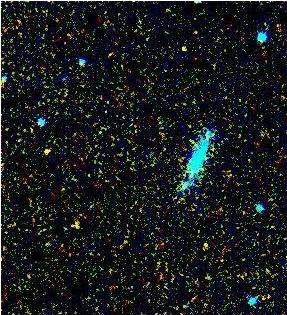star: (32, 135, 62, 165)
